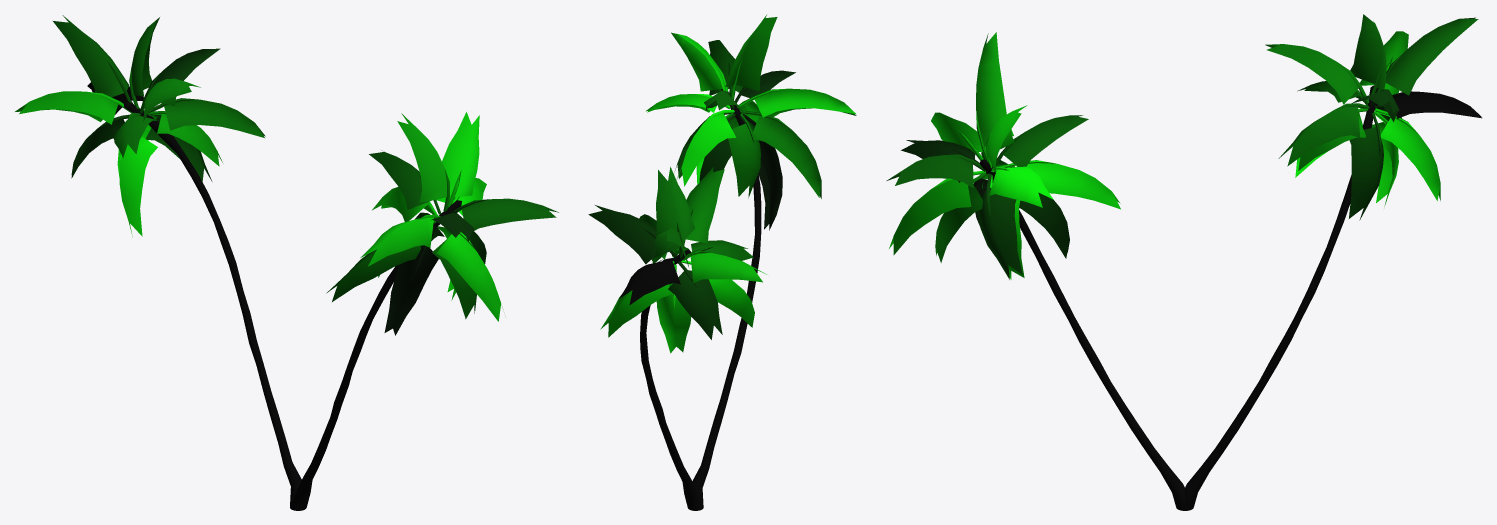
File: M_P10_Tree_14.fbx
The picture shows the model from 3 angles, left to right: view 1: azimuth 30°, elevation 25°; view 2: azimuth 150°, elevation 25°; view 3: azimuth 270°, elevation 25°; orthographic projection. The views are drawn at different scales.
Parts seen in each view (by area): view 1: Palm_2_6; view 2: Palm_2_6; view 3: Palm_2_6.
Boxes of the visible parts, x1,y1,x2,y2 form: Palm_2_6: (15,15,558,510); Palm_2_6: (588,15,856,510); Palm_2_6: (886,14,1481,510).
Bounding box in the file's own units: 422 × 607 × 681.
